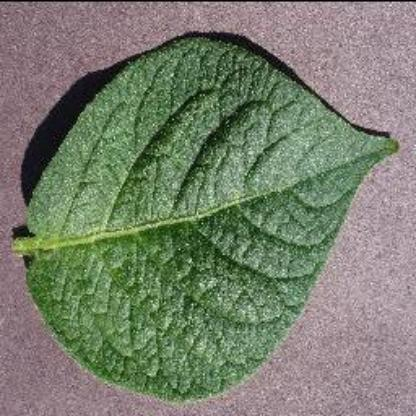Healthy-plant: (9, 26, 404, 404)
